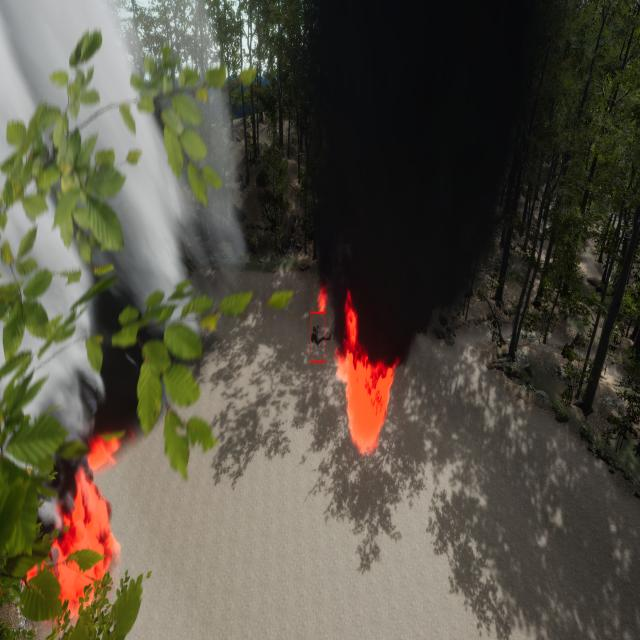Human: (304, 319, 335, 359)
